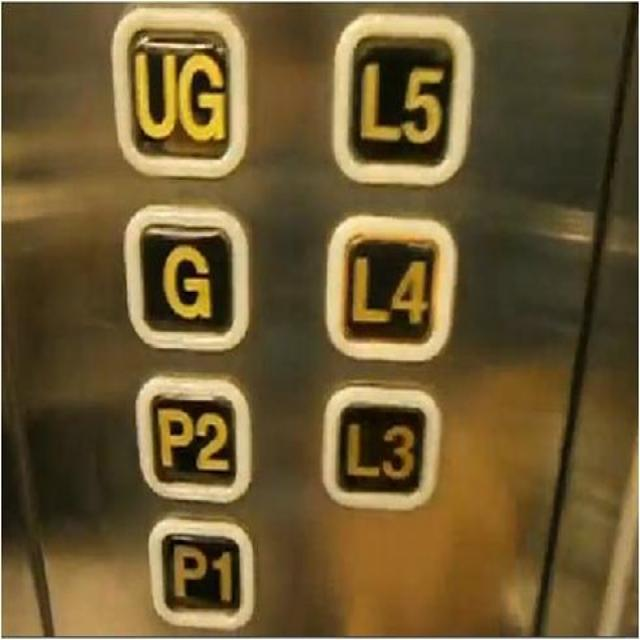G: (123, 199, 251, 352)
L3: (319, 382, 442, 510)
L4: (324, 210, 458, 366)
L5: (330, 7, 472, 186)
P1: (146, 512, 254, 635)
P2: (133, 370, 254, 506)
UG: (108, 2, 250, 182)
